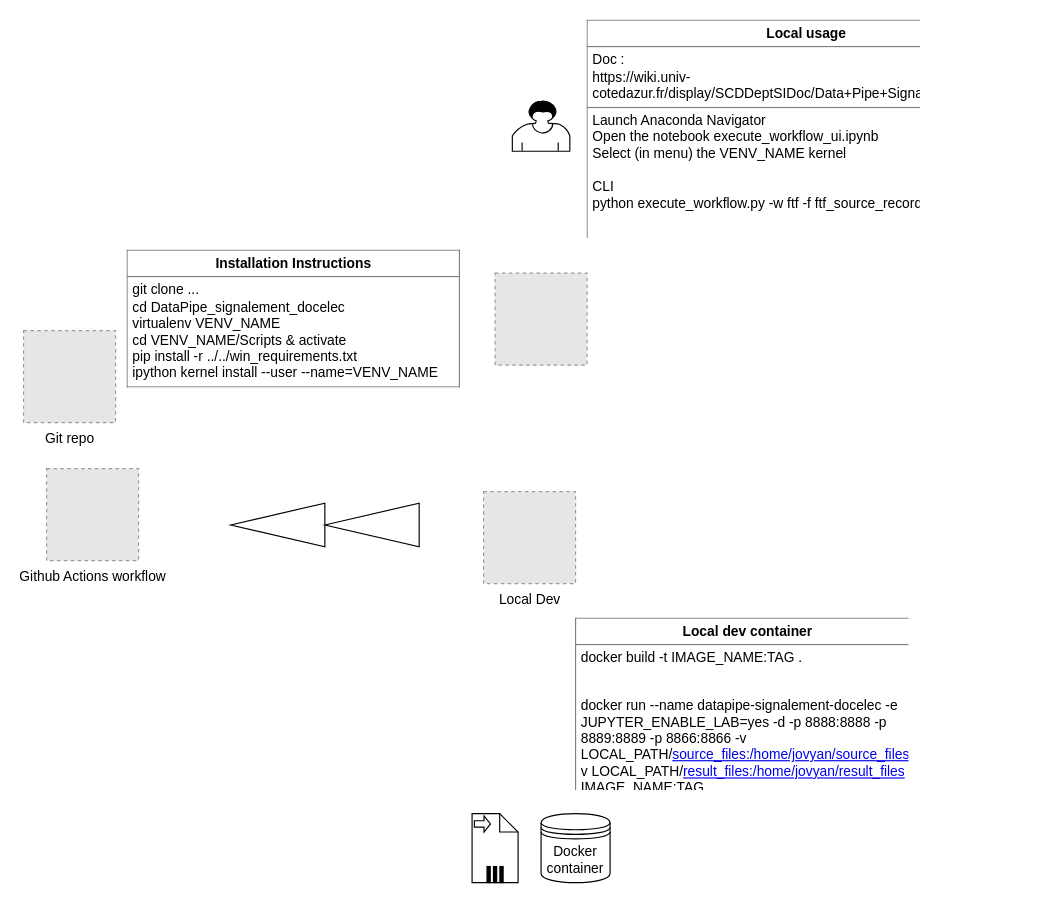
This 1038x903 diagram has some shape labels left out. Grey dashed boxes stand in for pictures. The centre of each missing label's shape, as x and y in pixels:
"Docker image" goes at point (494, 847).
"Git push" goes at point (324, 524).
